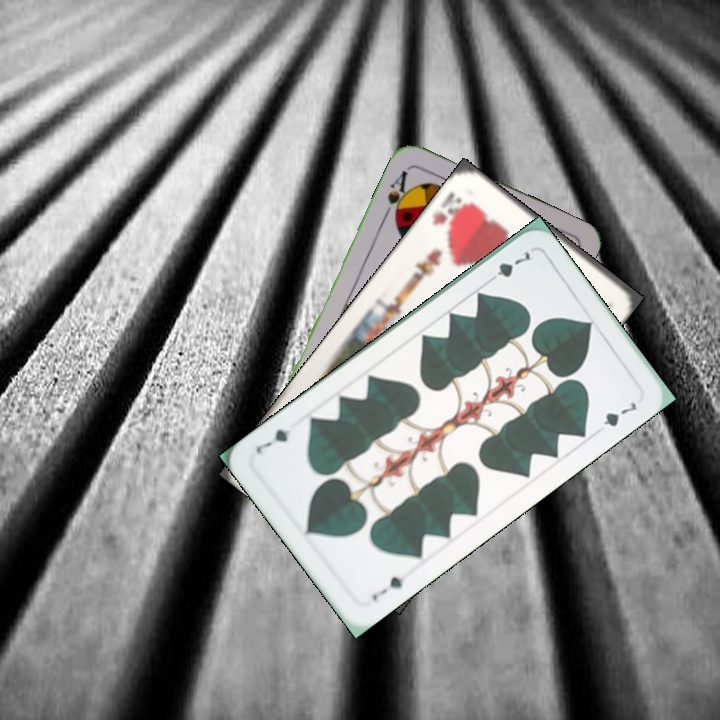G7: (482, 246, 533, 287), (368, 572, 406, 604)
HK: (428, 188, 473, 237)
SA: (380, 166, 414, 224)
